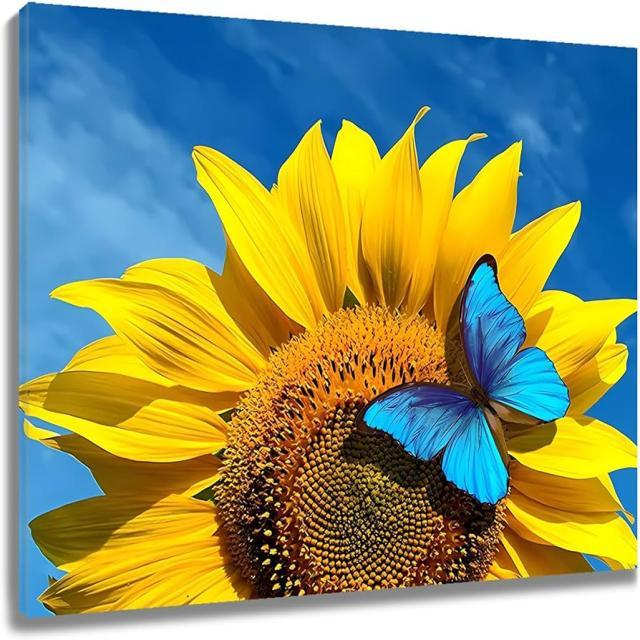sunflower: (18, 105, 637, 614)
